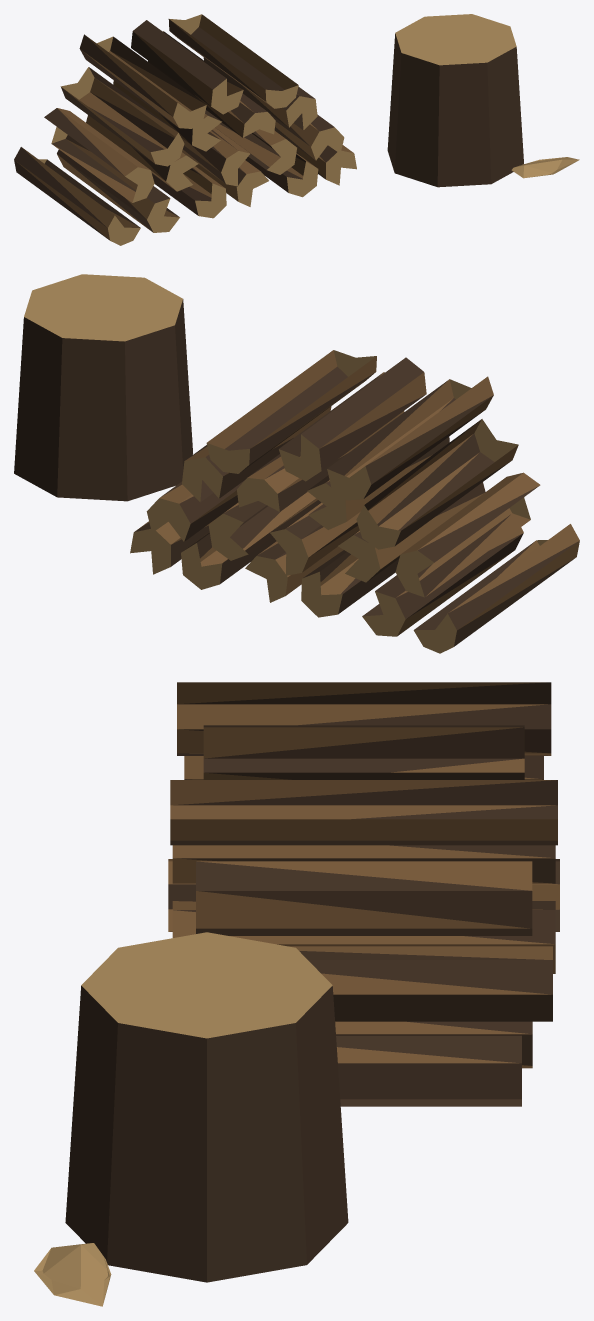
File: b5_braende.glb
The picture shows the model from 3 angles, top to bottom: view 1: azimuth 30°, elevation 25°; view 2: azimuth 150°, elevation 25°; view 3: azimuth 270°, elevation 25°; orthographic projection. The views are drawn at different scales.
Visible parts, largest first — view 1: B5_braendestabel; view 2: B5_braendestabel; view 3: B5_braendestabel.
Boxes of the visible parts, x1,y1,x2,y2 form: B5_braendestabel: [14, 14, 579, 245]; B5_braendestabel: [14, 274, 579, 653]; B5_braendestabel: [34, 682, 559, 1306].
Size of the model in its own units: 1.95 by 0.5925 by 1.
